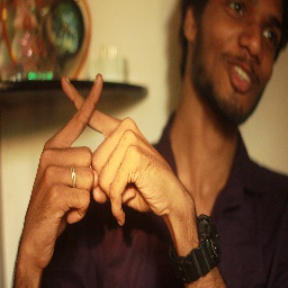X: (39, 64, 136, 164)
